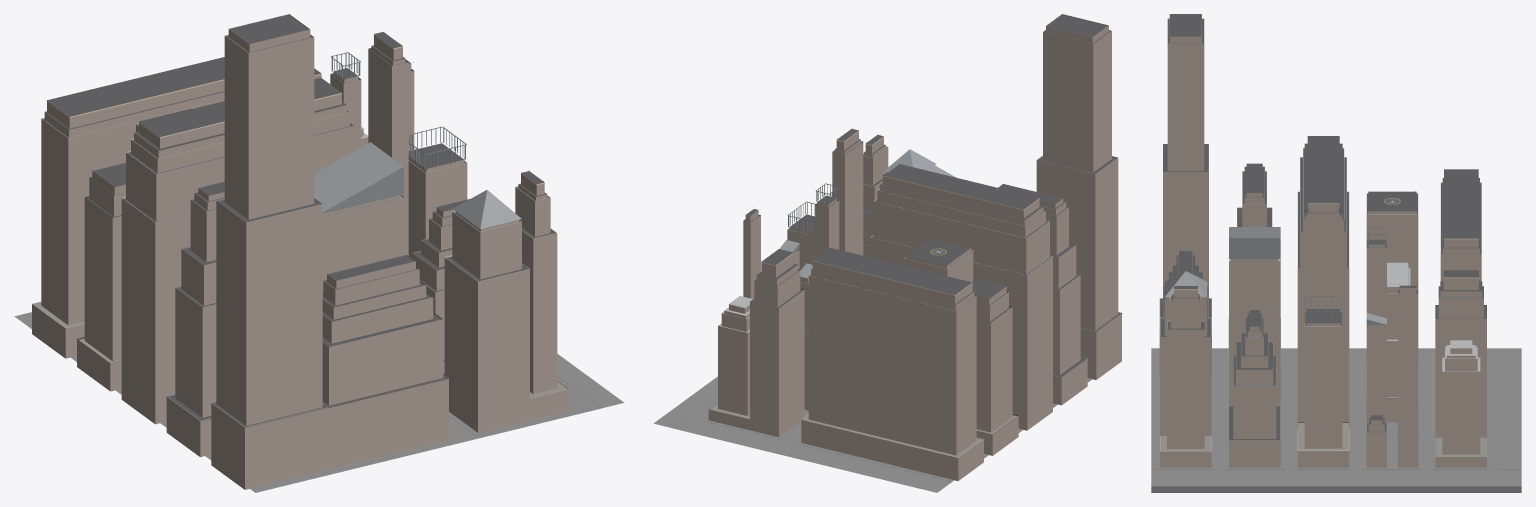
The picture shows the model from 3 angles, left to right: view 1: azimuth 30°, elevation 25°; view 2: azimuth 150°, elevation 25°; view 3: azimuth 270°, elevation 25°; orthographic projection. The views are drawn at different scales.
Visible parts, largest first — view 1: t33_facade, t33_roof, t33_ground, t33_detail; view 2: t33_facade, t33_roof, t33_ground, t33_detail; view 3: t33_facade, t33_ground, t33_roof, t33_detail.
Boxes of the visible parts, x1,y1,x2,y2 form: t33_facade: (32, 29, 569, 489); t33_roof: (33, 15, 567, 426); t33_ground: (14, 312, 623, 492); t33_detail: (32, 14, 568, 428); t33_facade: (708, 25, 1121, 480); t33_roof: (710, 14, 1120, 457); t33_ground: (653, 357, 1122, 492); t33_detail: (709, 14, 1122, 457); t33_facade: (1160, 36, 1486, 467); t33_ground: (1151, 348, 1521, 492); t33_roof: (1160, 14, 1486, 456); t33_detail: (1159, 14, 1486, 456).
Bounding box in the file's own units: 385 × 440 × 430.
